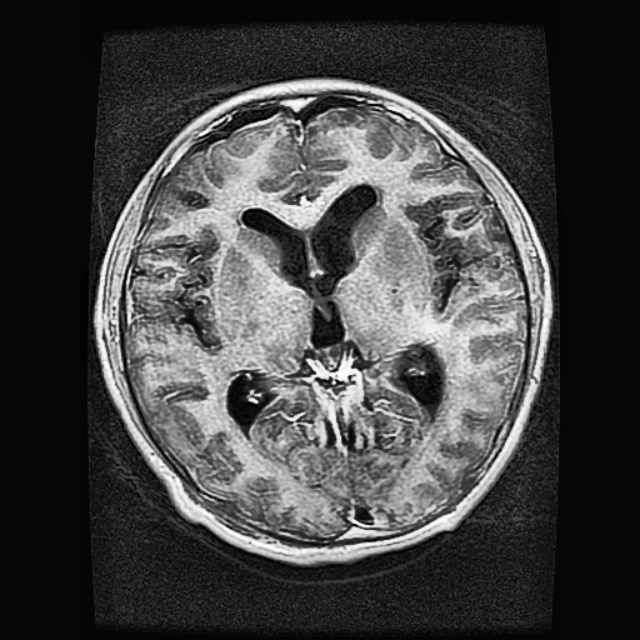Glioma: (270, 342, 405, 453)
